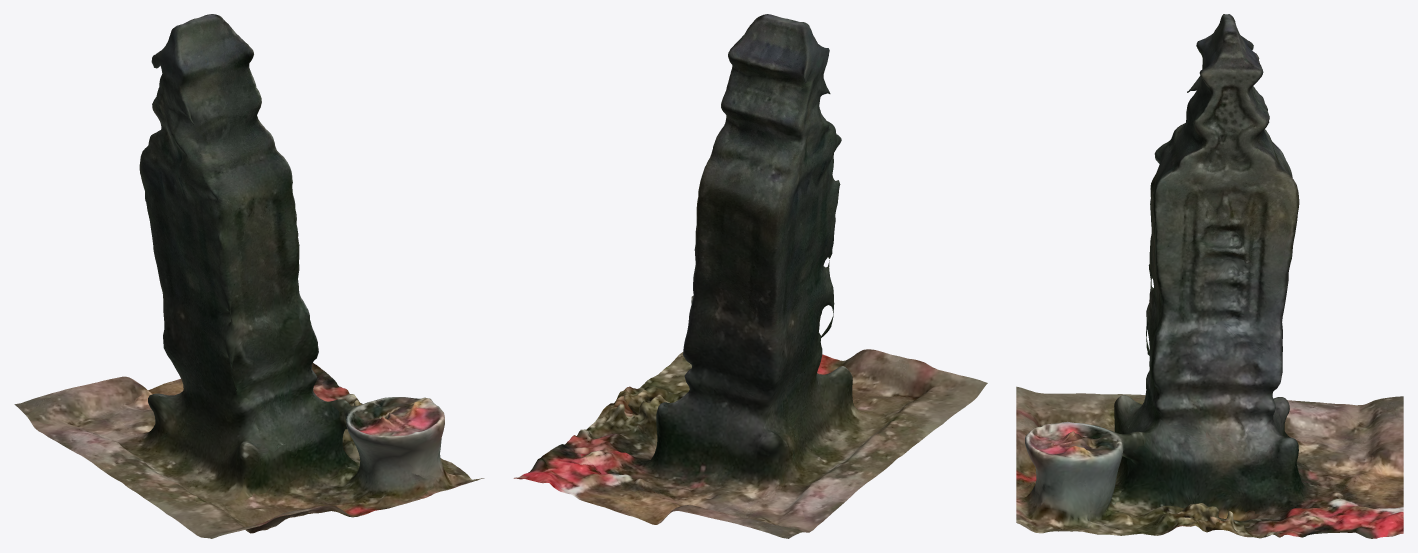
Rendered from nisan.glb.
3 renders of one model, left to right at view 1: azimuth 30°, elevation 25°; view 2: azimuth 150°, elevation 25°; view 3: azimuth 270°, elevation 25°, orthographic. The views are drawn at different scales.
Visible parts, largest first — view 1: 3DModel; view 2: 3DModel; view 3: 3DModel.
Part boxes in pixels (box(x1,y1,x2,y2)): 3DModel: box(14, 14, 484, 538); 3DModel: box(513, 14, 987, 538); 3DModel: box(1016, 14, 1403, 538).
Size of the model in its own units: 0.4439 by 0.7104 by 0.5561.
Materials: 1 (1 with a texture image).
